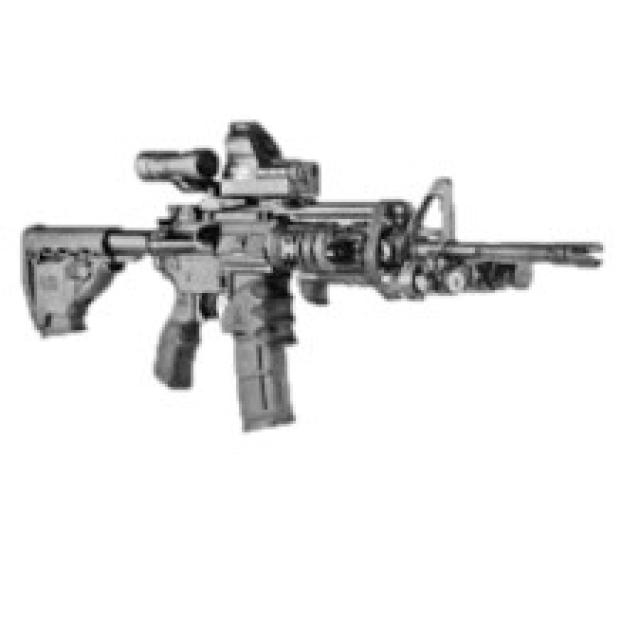rifle: (17, 109, 601, 440)
